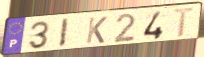2: (112, 13, 137, 44)
3: (27, 19, 51, 50)
4: (142, 9, 165, 41)
I: (57, 17, 70, 49)
K: (85, 15, 109, 44)
T: (172, 6, 198, 39)
